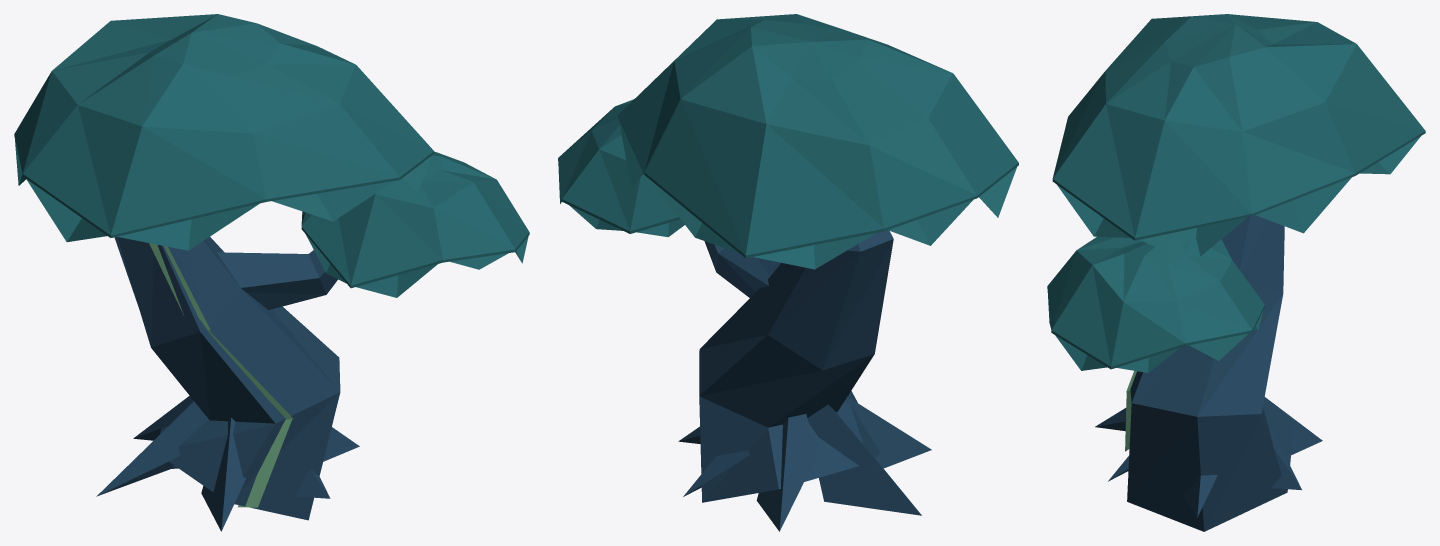
3 renders of one model, left to right at view 1: azimuth 30°, elevation 25°; view 2: azimuth 150°, elevation 25°; view 3: azimuth 270°, elevation 25°, orthographic. The views are drawn at different scales.
Parts seen in each view (by area): view 1: 复用森林树_3.001; view 2: 复用森林树_3.001; view 3: 复用森林树_3.001.
Boxes of the visible parts, bbox=[...] form: 复用森林树_3.001: bbox=[14, 14, 529, 531]; 复用森林树_3.001: bbox=[558, 14, 1018, 531]; 复用森林树_3.001: bbox=[1047, 14, 1425, 531].
Size of the model in its own units: 0.3963 by 0.4063 by 0.3053.
